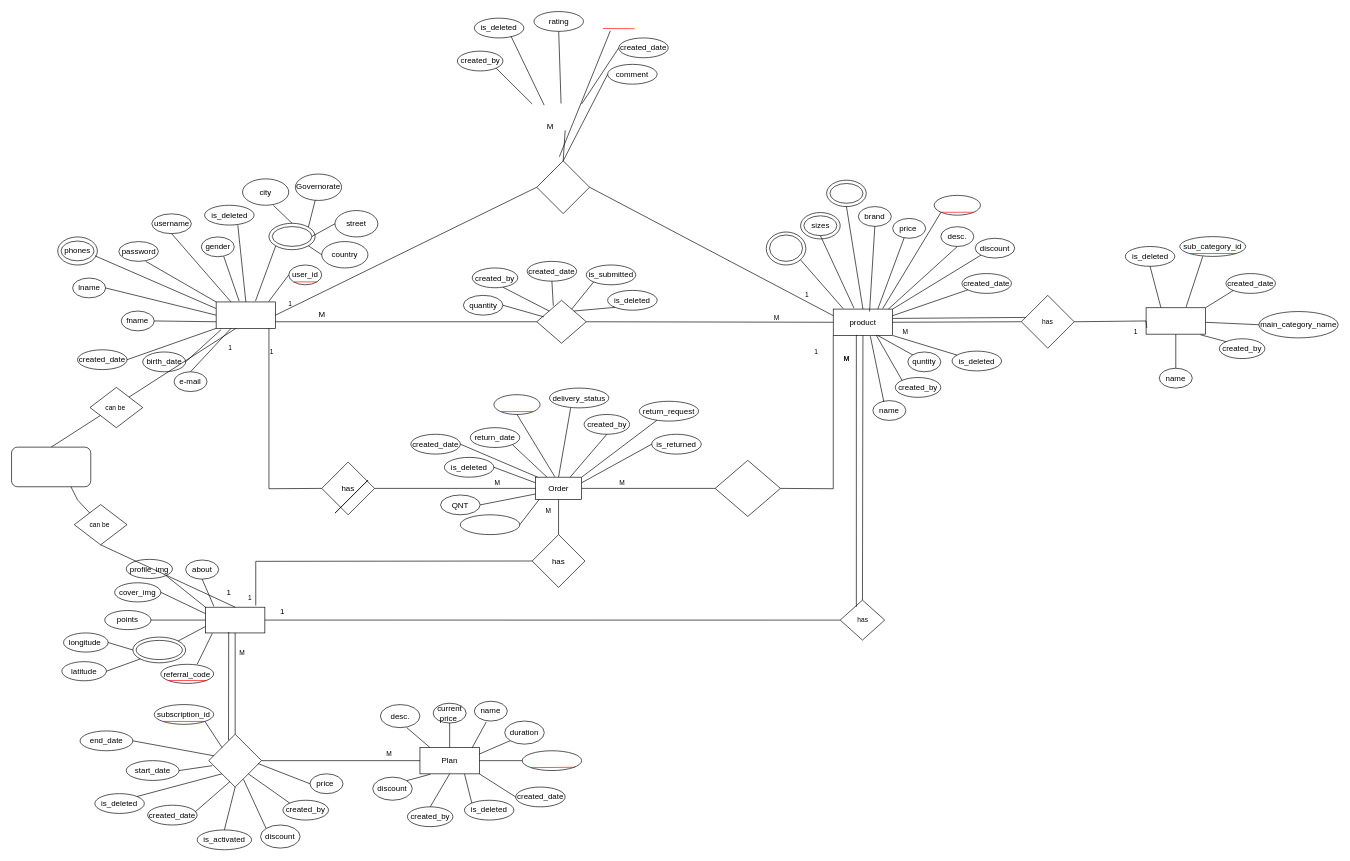
This 1350x861 diagram has some shape labels left out. The shapes that lost their labels are listed below. From the top down, each one's centre as x and y in pixels, then its label:
(x=563, y=187): FeedBack
(x=846, y=193): colors
(x=957, y=205): product_id
(x=292, y=236): addresses
(x=786, y=247): imgs
(x=245, y=314): Buyer
(x=561, y=321): reserve Cart
(x=1175, y=320): sub_category
(x=516, y=404): order_id
(x=51, y=466): AppUser
(x=747, y=488): checked out as
(x=490, y=524): delivery_date
(x=235, y=620): sellerInfo
(x=158, y=650): locations
(x=235, y=760): subscripe
(x=552, y=760): plan_id
